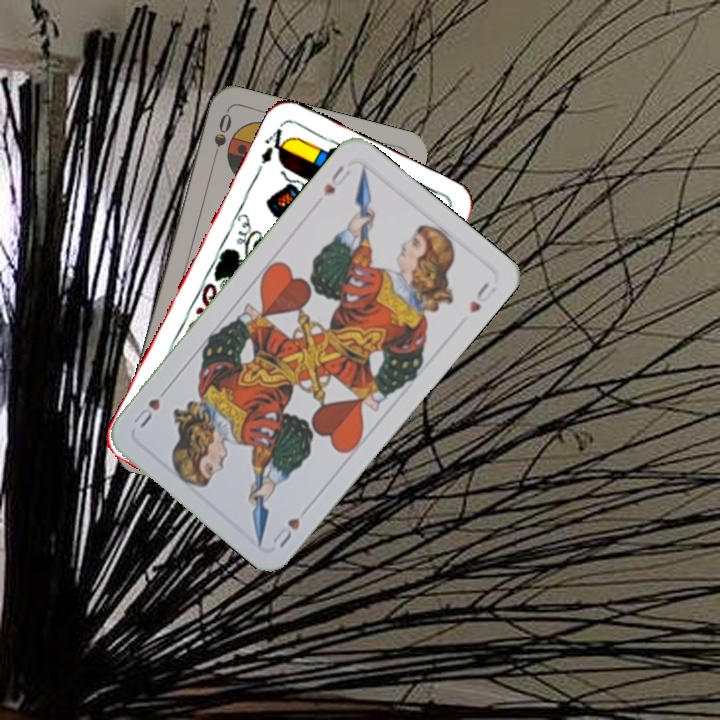EA: (253, 124, 293, 176)
HU: (319, 161, 355, 199), (268, 513, 303, 551)
SO: (207, 109, 235, 167)
